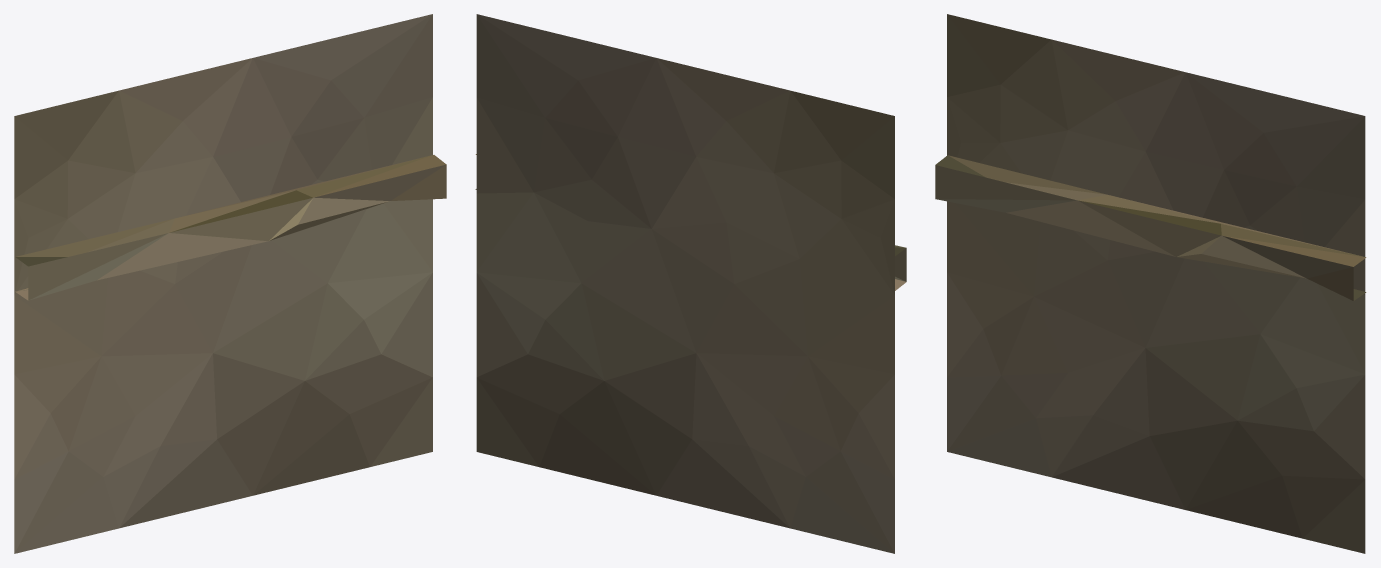
File: Wall_UG-CleanA.fbx
The picture shows the model from 3 angles, left to right: view 1: azimuth 30°, elevation 25°; view 2: azimuth 150°, elevation 25°; view 3: azimuth 330°, elevation 25°; orthographic projection.
Parts seen in each view (by area): view 1: Wall_UG-CleanA; view 2: Wall_UG-CleanA; view 3: Wall_UG-CleanA.
Boxes of the visible parts, box(x1,y1,x2,y2) form: Wall_UG-CleanA: box(14, 14, 446, 553); Wall_UG-CleanA: box(475, 14, 906, 553); Wall_UG-CleanA: box(935, 14, 1366, 553).
Bounding box in the file's own units: 401 × 400 × 24.1.
